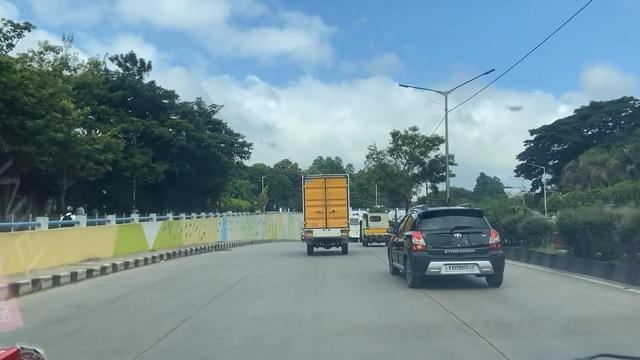HMV: (302, 176, 348, 252)
LMV: (390, 209, 498, 288)
